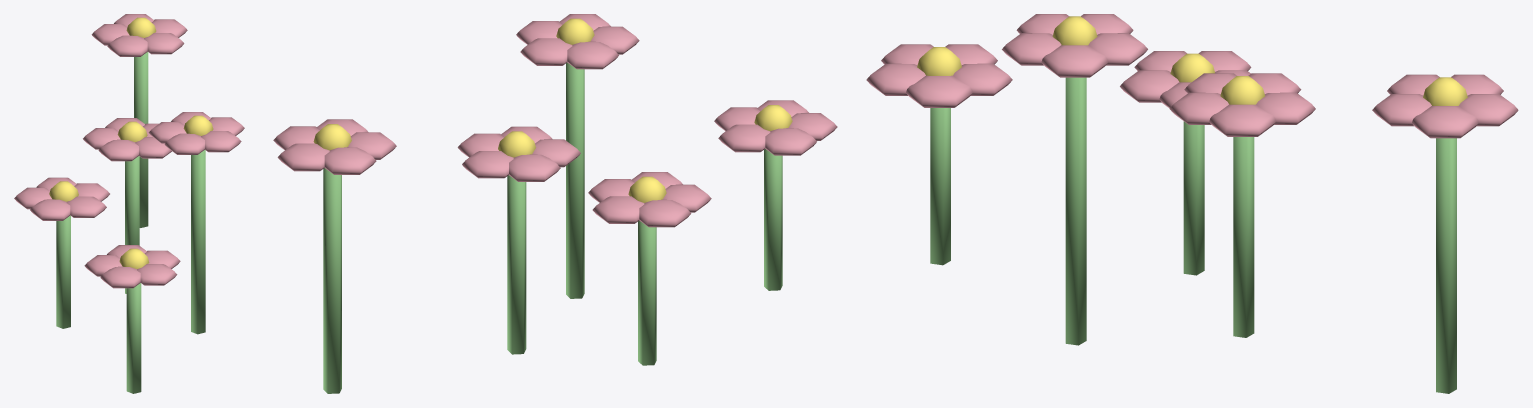
Rendered from env_blossom_flower.glb.
3 renders of one model, left to right at view 1: azimuth 30°, elevation 25°; view 2: azimuth 150°, elevation 25°; view 3: azimuth 270°, elevation 25°, orthographic. The views are drawn at different scales.
Parts seen in each view (by area): view 1: cone; view 2: cone; view 3: cone.
Boxes of the visible parts, left/top/right/bottom form: cone: left=14, top=14, right=244, bottom=393; cone: left=273, top=14, right=837, bottom=393; cone: left=866, top=14, right=1518, bottom=393.
Bounding box in the file's own units: 0.7561 × 0.6154 × 1.13.
